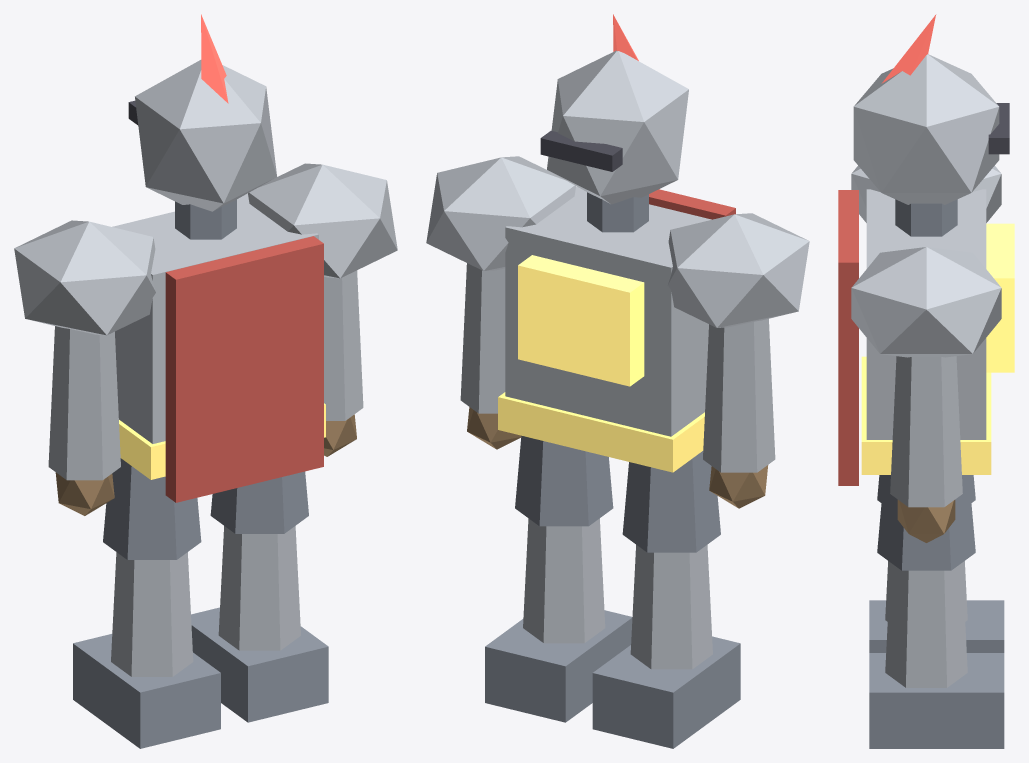
Rendered from knight.glb.
3 views of the same model, side by side, from view 1: azimuth 30°, elevation 25°; view 2: azimuth 150°, elevation 25°; view 3: azimuth 270°, elevation 25° (orthographic).
Visible parts, largest first — view 1: KnightTorso; view 2: KnightTorso; view 3: KnightTorso.
Part boxes in pixels (left/top/right/bottom): KnightTorso: left=14, top=14, right=397, bottom=748; KnightTorso: left=426, top=14, right=809, bottom=748; KnightTorso: left=838, top=14, right=1014, bottom=748.
Bounding box in the file's own units: 1.61 × 2.93 × 0.68.
